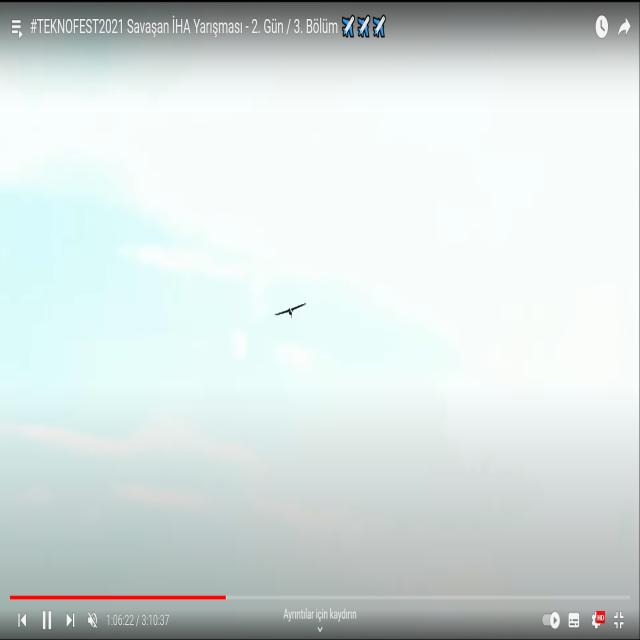iha: (274, 299, 308, 321)
